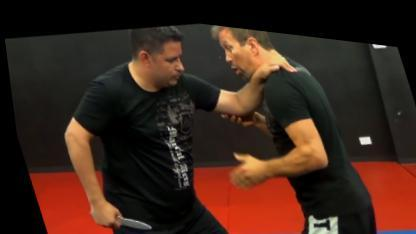knife: (78, 194, 149, 233)
